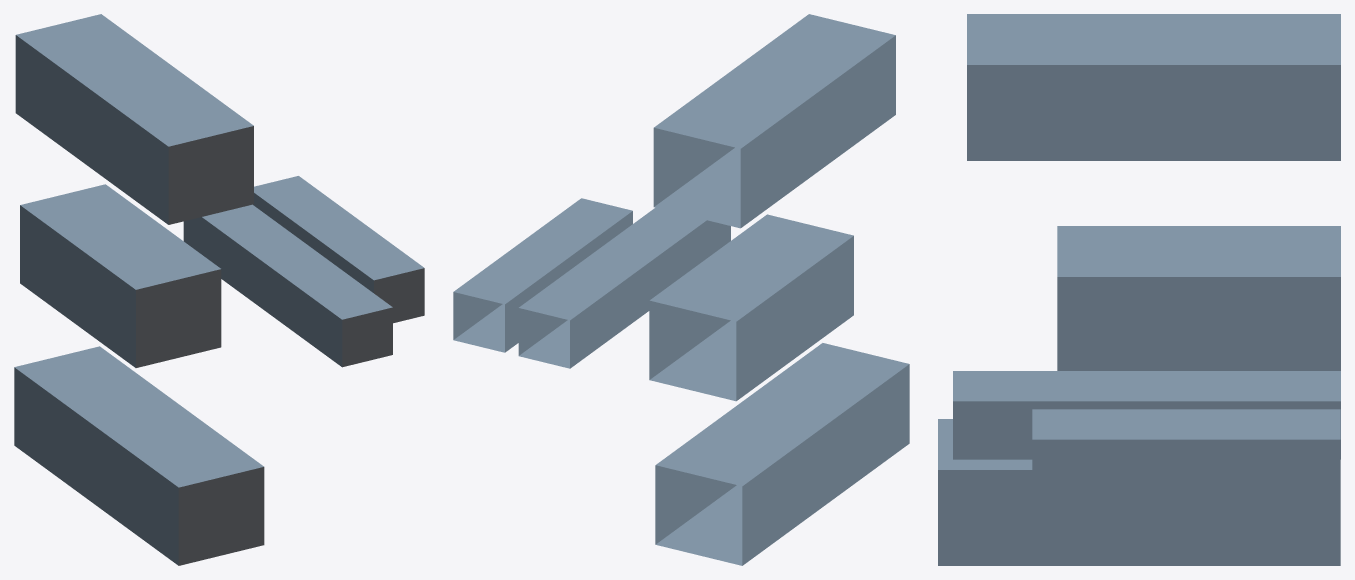
Rendered from island_bldg_14_09.obj.
The picture shows the model from 3 angles, left to right: view 1: azimuth 30°, elevation 25°; view 2: azimuth 150°, elevation 25°; view 3: azimuth 270°, elevation 25°; orthographic projection. The views are drawn at different scales.
Parts seen in each view (by area): view 1: island_bldg_14_09; view 2: island_bldg_14_09; view 3: island_bldg_14_09.
Part boxes in pixels (bbox=[...]): island_bldg_14_09: bbox=[14, 14, 424, 565]; island_bldg_14_09: bbox=[453, 14, 909, 565]; island_bldg_14_09: bbox=[938, 14, 1340, 565].
Size of the model in its own units: 106 by 147 by 107.
